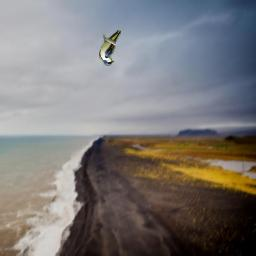Swallow: (99, 30, 121, 66)
